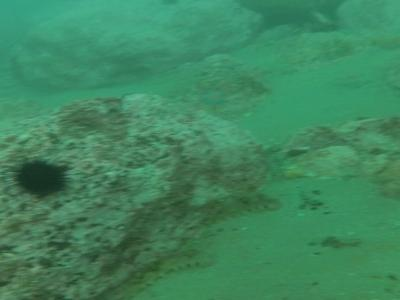holothurian: (126, 250, 212, 292)
urchin: (9, 157, 76, 199)
